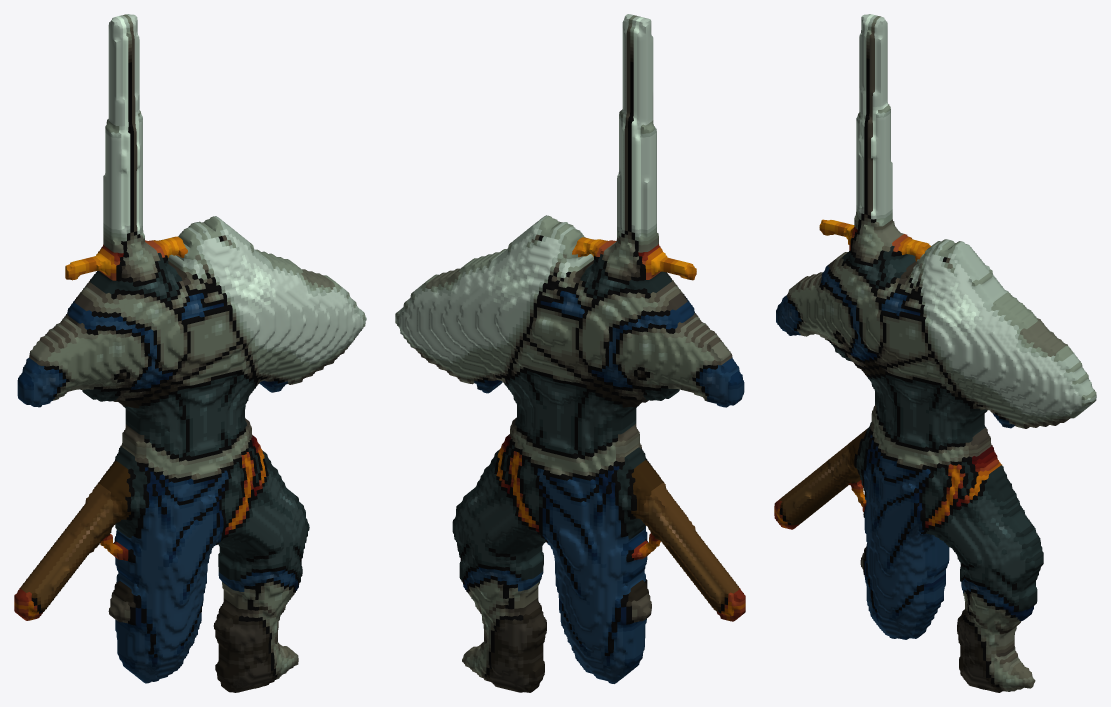
The model's file is Fight_107_2_03.obj.
3 renders of one model, left to right at view 1: azimuth 30°, elevation 25°; view 2: azimuth 150°, elevation 25°; view 3: azimuth 330°, elevation 25°, orthographic. The views are drawn at different scales.
Size of the model in its own units: 9.9 by 19.1 by 2.5.
Materials: 1 (1 with a texture image).
